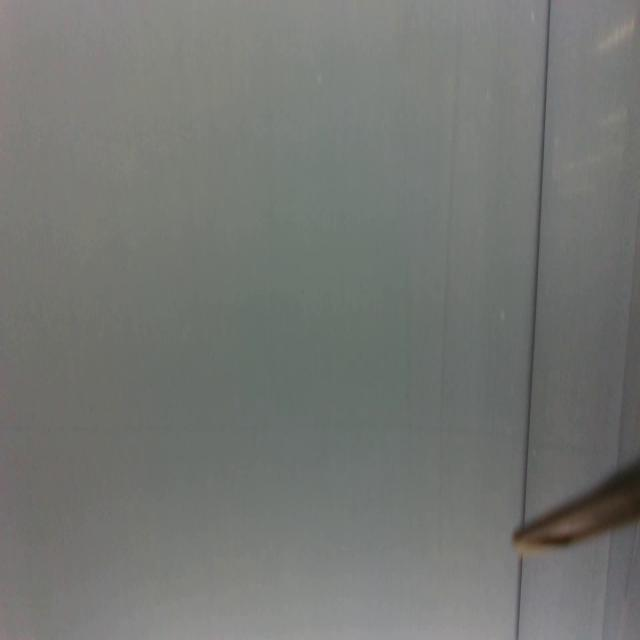crease: (522, 0, 552, 515), (614, 203, 640, 458), (602, 532, 614, 638), (514, 557, 524, 640)
hole: (314, 67, 325, 90), (501, 309, 507, 326)
